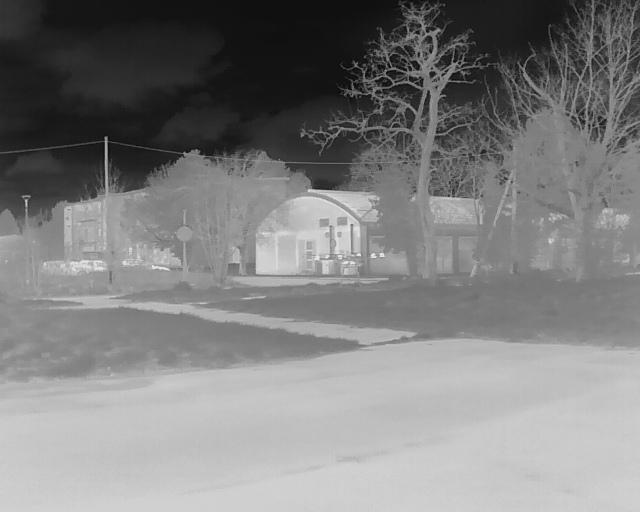drone: (303, 247, 398, 294)
